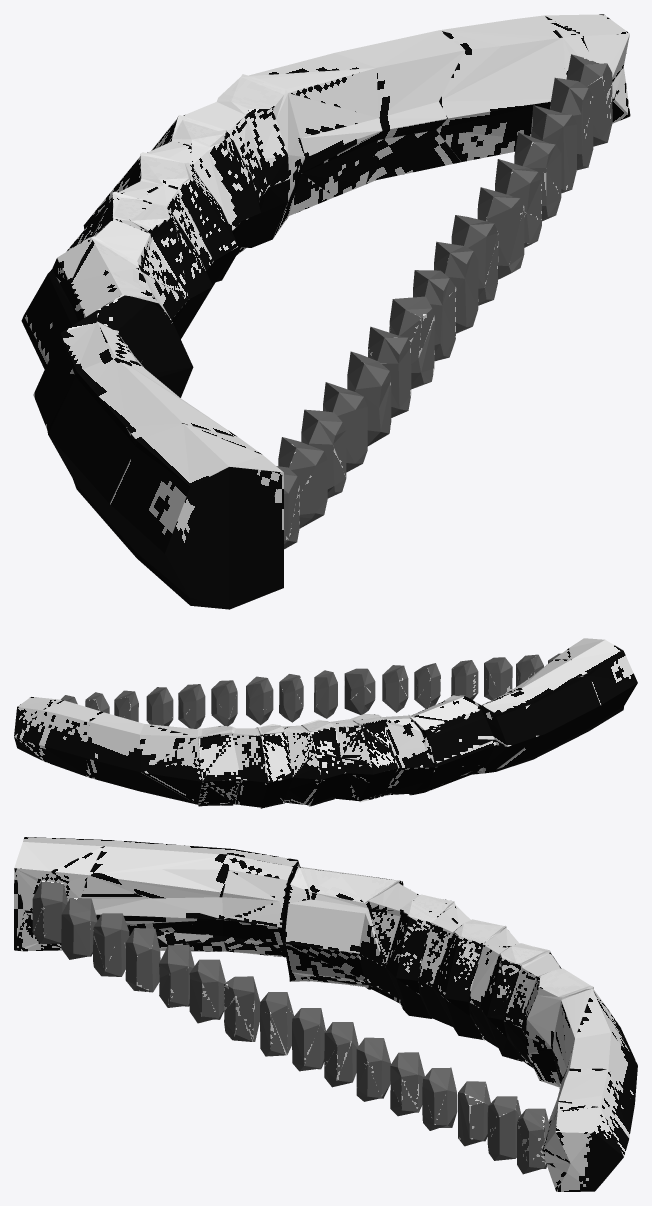
3 views of the same model, one above another, from view 1: azimuth 30°, elevation 25°; view 2: azimuth 150°, elevation 25°; view 3: azimuth 270°, elevation 25° (orthographic). The views are drawn at different scales.
Visible parts, largest first — view 1: OBJ019; view 2: OBJ019; view 3: OBJ019.
Boxes of the visible parts, box(x1,y1,x2,y2) form: OBJ019: box(21, 14, 630, 609); OBJ019: box(14, 638, 637, 808); OBJ019: box(14, 837, 637, 1191).
Bounding box in the file's own units: 0.4443 × 0.0807 × 0.3992.
Materials: 1 (1 with a texture image).
